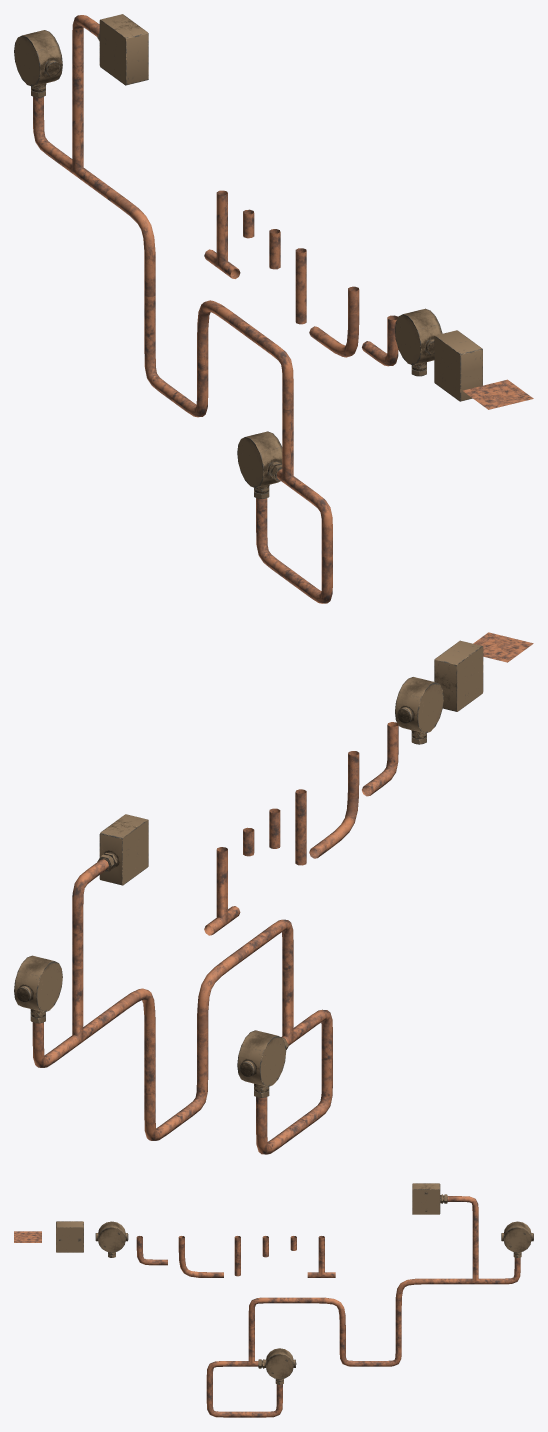
File: ElectricalWiresMetallic.fbx
3 renders of one model, top to bottom at view 1: azimuth 30°, elevation 25°; view 2: azimuth 150°, elevation 25°; view 3: azimuth 270°, elevation 25°, orthographic. The views are drawn at different scales.
Visible parts, largest first — view 1: ExamplePipe.001, JunctionBox_Square, ExamplePipe.010, ExamplePipe.004, JunctionBox_Circle, ExamplePipe.015, Large_L_Pipe, T_Pipe, ExamplePipe.014, TileSet, ExamplePipe.040, ExamplePipe.039 (+10 smaller); view 2: JunctionBox_Square, ExamplePipe.001, ExamplePipe.010, JunctionBox_Circle, ExamplePipe.004, ExamplePipe.014, Large_L_Pipe, T_Pipe, ExamplePipe.015, ExamplePipe.040, TileSet, ExamplePipe.039 (+10 smaller); view 3: ExamplePipe, JunctionBox_FacePlate_Square, JunctionBox_FacePlate_Circle, ExamplePipe.005, ExamplePipe.011, ExamplePipe.014, ExamplePipe.015, Large_L_Pipe, ExamplePipe.040, T_Pipe, ExamplePipe.039, Small_L_Pipe (+9 smaller).
Boxes of the visible parts, left/top/right/bottom form: ExamplePipe.001: left=99, top=14, right=148, bottom=85; JunctionBox_Square: left=434, top=330, right=482, bottom=401; ExamplePipe.010: left=14, top=30, right=62, bottom=87; ExamplePipe.004: left=237, top=431, right=282, bottom=489; JunctionBox_Circle: left=395, top=309, right=441, bottom=366; ExamplePipe.015: left=105, top=189, right=155, bottom=296; Large_L_Pipe: left=309, top=286, right=359, bottom=357; T_Pipe: left=204, top=190, right=240, bottom=278; ExamplePipe.014: left=197, top=300, right=244, bottom=371; TileSet: left=462, top=379, right=533, bottom=409; ExamplePipe.040: left=60, top=99, right=93, bottom=183; ExamplePipe.039: left=276, top=407, right=303, bottom=492; JunctionBox_Square: left=434, top=640, right=483, bottom=711; ExamplePipe.001: left=100, top=814, right=148, bottom=885; ExamplePipe.010: left=14, top=955, right=62, bottom=1013; JunctionBox_Circle: left=395, top=677, right=443, bottom=734; ExamplePipe.004: left=237, top=1030, right=286, bottom=1087; ExamplePipe.014: left=197, top=948, right=246, bottom=1056; Large_L_Pipe: left=309, top=751, right=359, bottom=858; T_Pipe: left=204, top=847, right=240, bottom=935; ExamplePipe.015: left=108, top=988, right=155, bottom=1059; ExamplePipe.040: left=62, top=967, right=95, bottom=1052; TileSet: left=473, top=632, right=533, bottom=662; ExamplePipe.039: left=281, top=968, right=305, bottom=1045; ExamplePipe: left=412, top=1189, right=440, bottom=1214; JunctionBox_FacePlate_Square: left=56, top=1227, right=83, bottom=1252; JunctionBox_FacePlate_Circle: left=98, top=1227, right=125, bottom=1252; ExamplePipe.005: left=266, top=1354, right=293, bottom=1379; ExamplePipe.011: left=503, top=1227, right=531, bottom=1252; ExamplePipe.014: left=300, top=1297, right=345, bottom=1339; ExamplePipe.015: left=395, top=1278, right=440, bottom=1320; Large_L_Pipe: left=178, top=1236, right=223, bottom=1277; ExamplePipe.040: left=461, top=1244, right=489, bottom=1284; T_Pipe: left=307, top=1236, right=335, bottom=1277; ExamplePipe.039: left=237, top=1326, right=258, bottom=1366; Small_L_Pipe: left=136, top=1236, right=167, bottom=1265.
Bounding box in the file's own units: 200 × 1822 × 3717.
